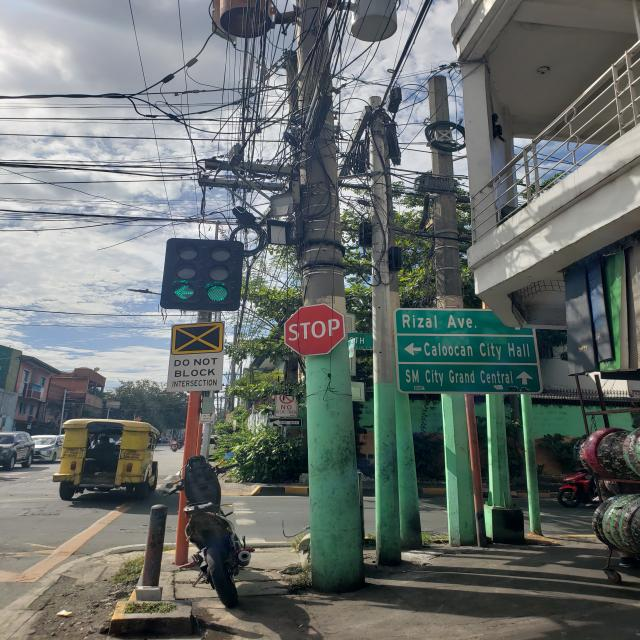stop-sign: (284, 303, 346, 357)
